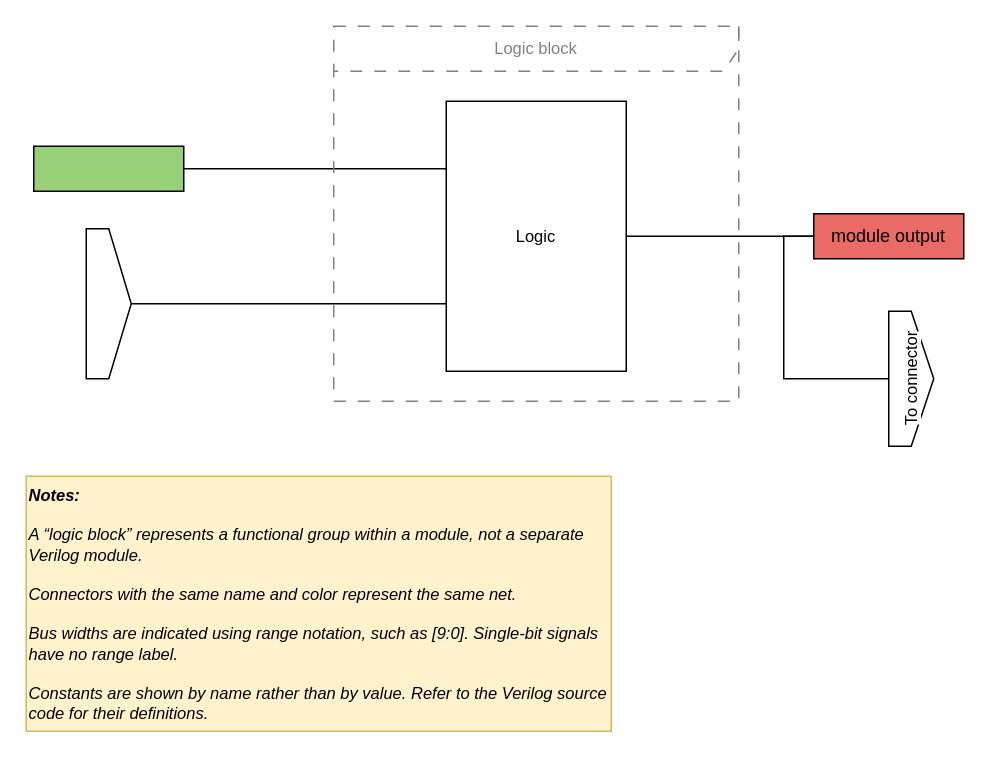
Image size: 990x758. Some labels were removed from this diagram. The centre of each missing label's shape, as x and y in pixels:
[:] module input: (x=108, y=168)
From connector: (x=108, y=303)
